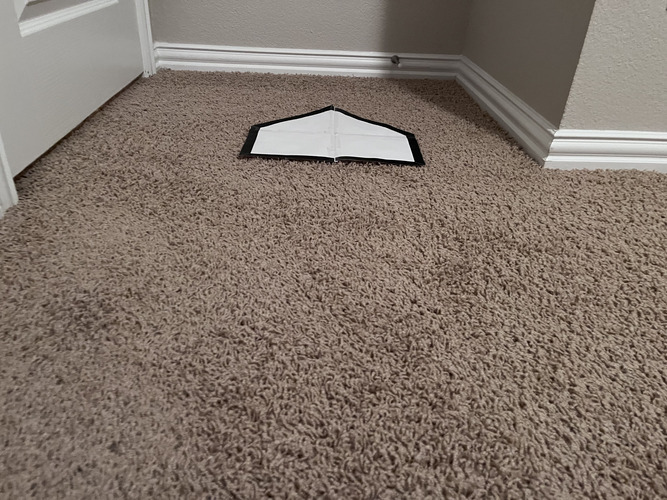homeplate: (234, 104, 425, 168)
